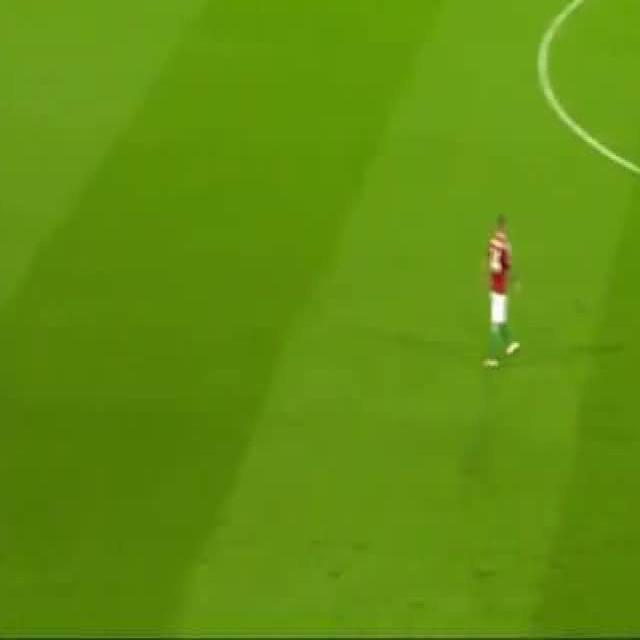player-white: (482, 215, 520, 368)
